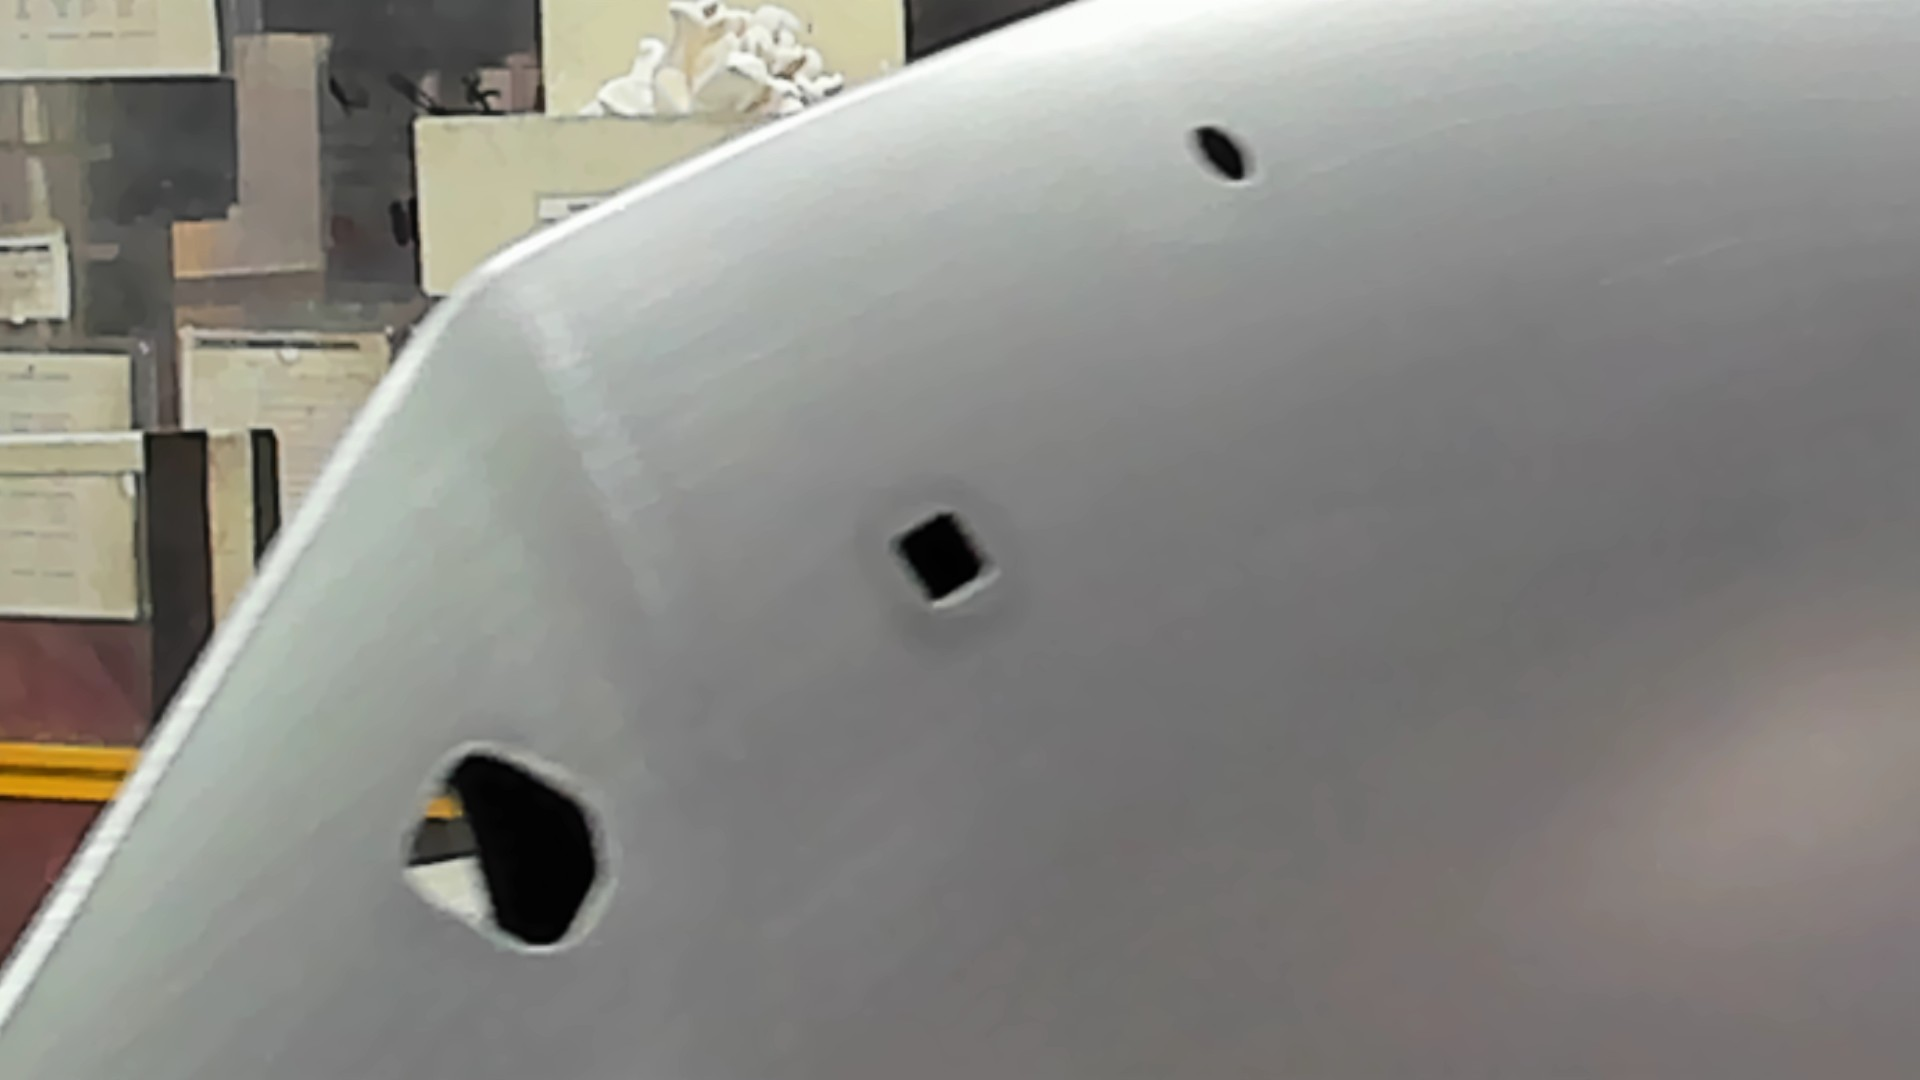chico: (1182, 119, 1261, 187)
grande: (388, 738, 618, 960)
mediano: (886, 505, 1002, 615)
